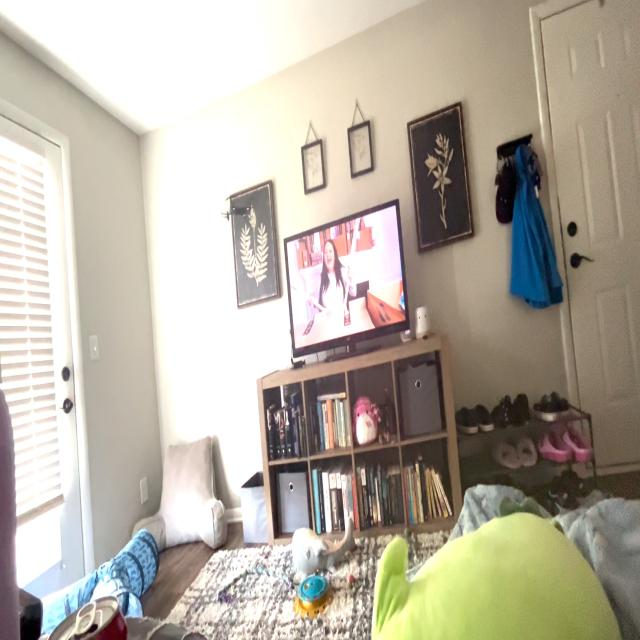drone: (211, 184, 259, 233)
